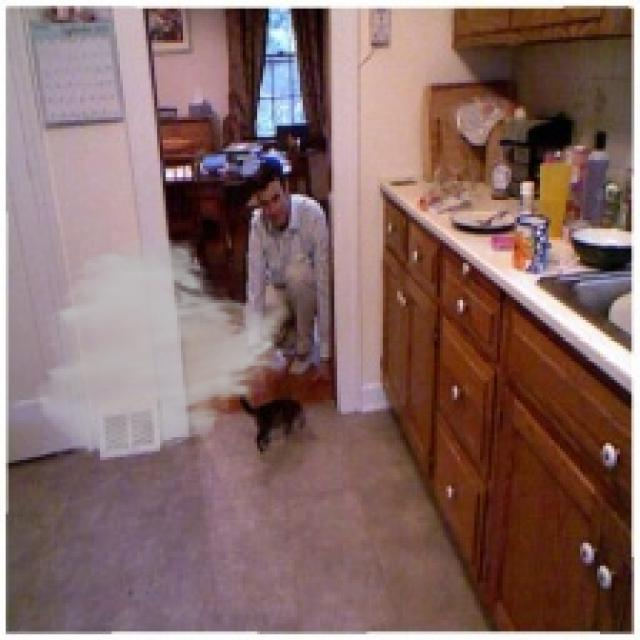smoke: (32, 234, 294, 460)
